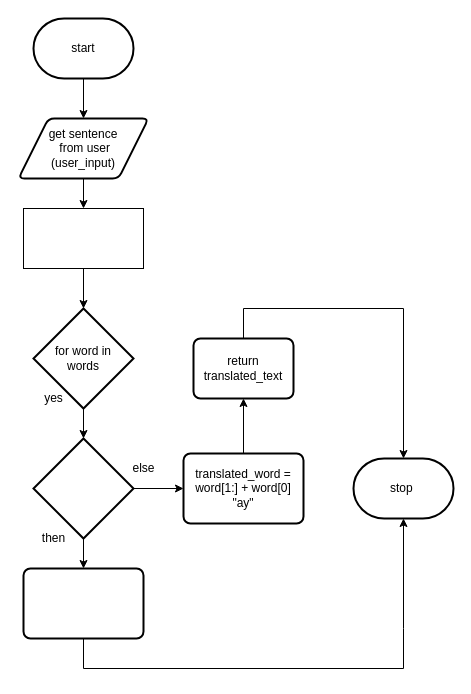
Some shapes in this 471 by 694 pixel diagram are drawn without their labels. Each missing label, with the box of its shape:
if len(word) == 1: (32, 437, 134, 539)
translated_word = word + "ay": (22, 567, 144, 639)
words = text.splits(): (22, 208, 144, 268)
